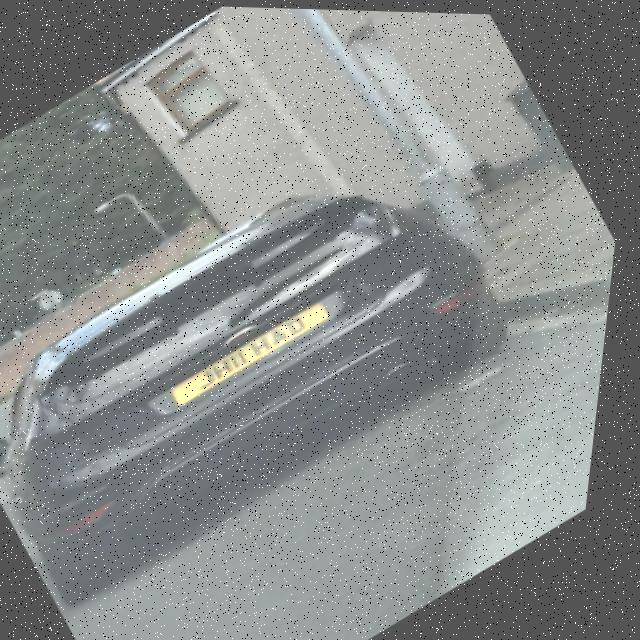license_plate: (175, 293, 336, 410)
